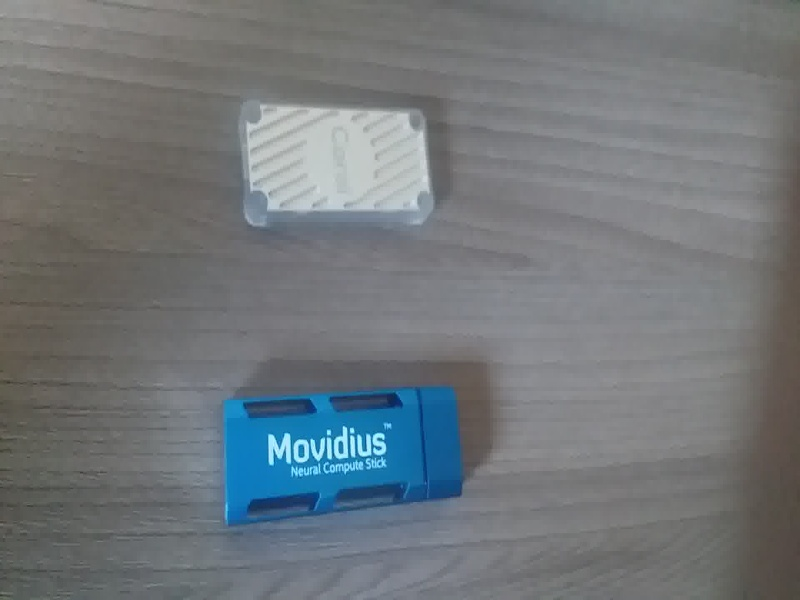coral: (235, 95, 445, 241)
movidius: (210, 386, 473, 531)
